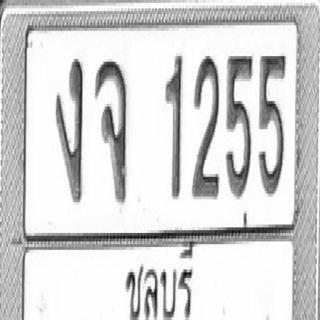A07: (55, 55, 83, 201)
A08: (94, 57, 127, 201)
N01: (165, 50, 182, 196)
N02: (191, 52, 219, 198)
N05: (258, 50, 286, 194), (226, 50, 252, 196)
P13: (118, 246, 197, 320)
